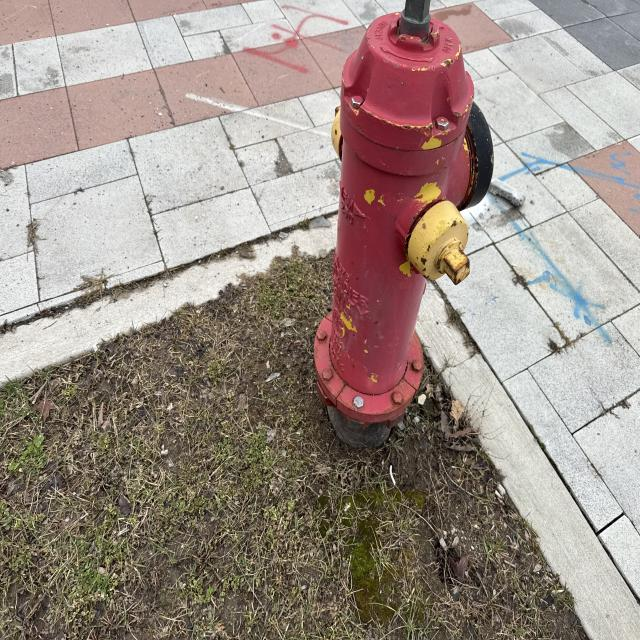Fire hydrant: (312, 0, 496, 432)
